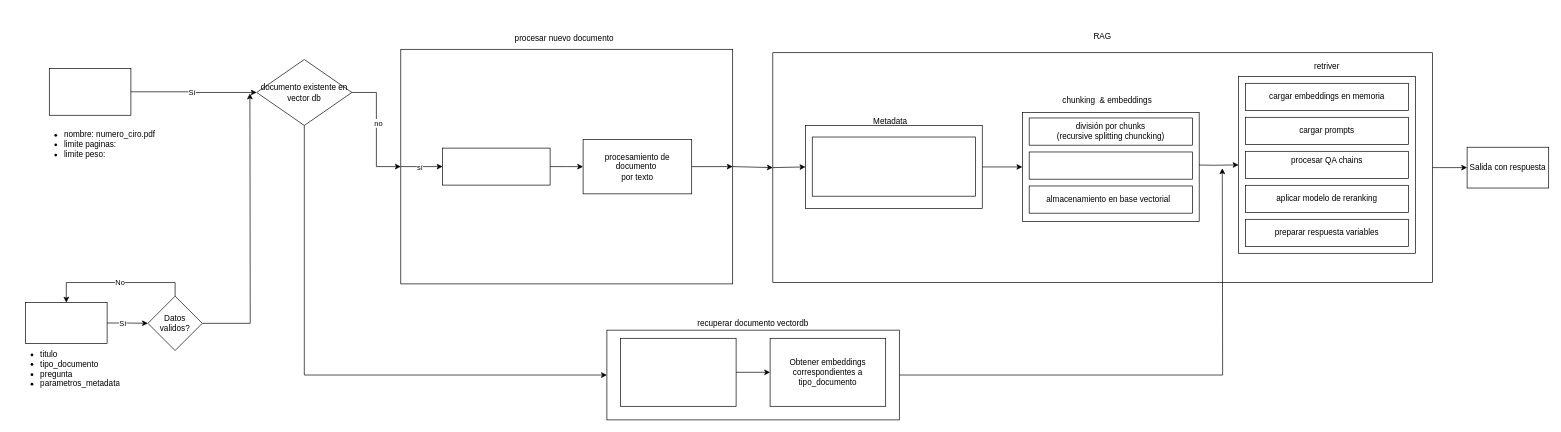
Some shapes in this 1561 by 432 pixel diagram are drawn without their labels. Each missing label, with the centre of its shape:
"cargue: documento pdf" belongs at pixel 90 91.
"creacion lista de documentos con metadata titulo, tipo documento, pagina" belongs at pixel 893 166.
"creación de embeddings (adda v2)" belongs at pixel 1110 165.
"datos entrada" belongs at pixel 66 322.
"Filtrar coleccion en vector db por tipo_documento" belongs at pixel 678 372.
"procesamiento de documento Fitz (PyMuPDF)" belongs at pixel 496 166.
